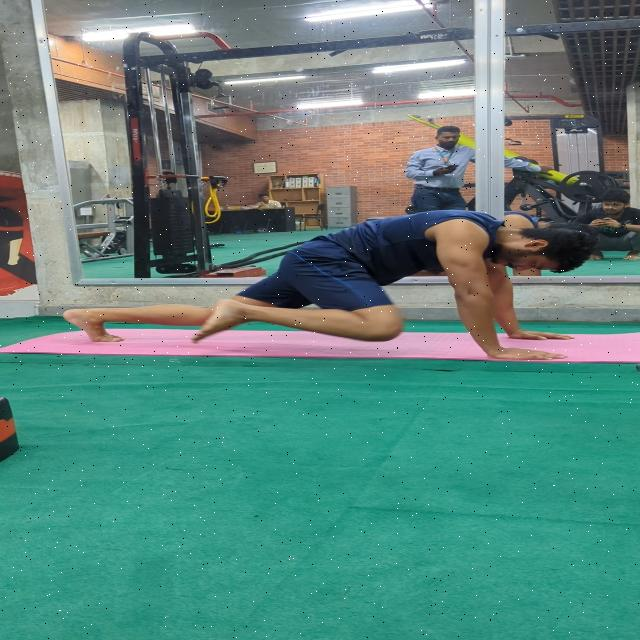Normal_MountainClimbers: (49, 203, 620, 370)
